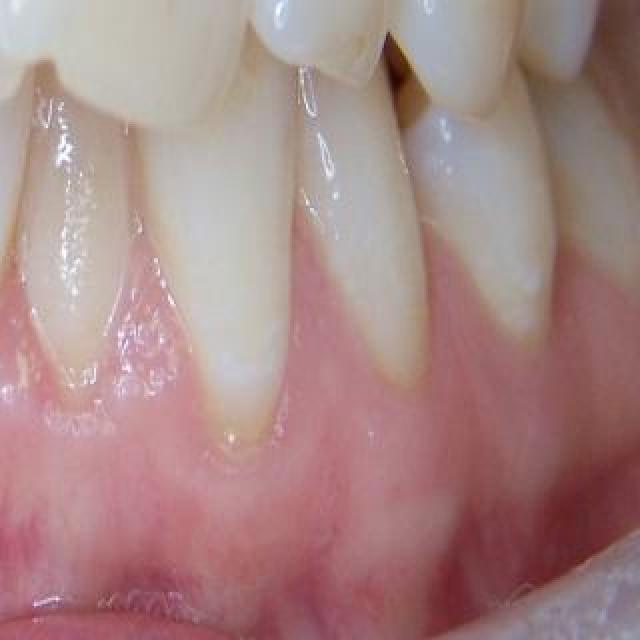maligned: (0, 70, 158, 400), (0, 0, 268, 112)
